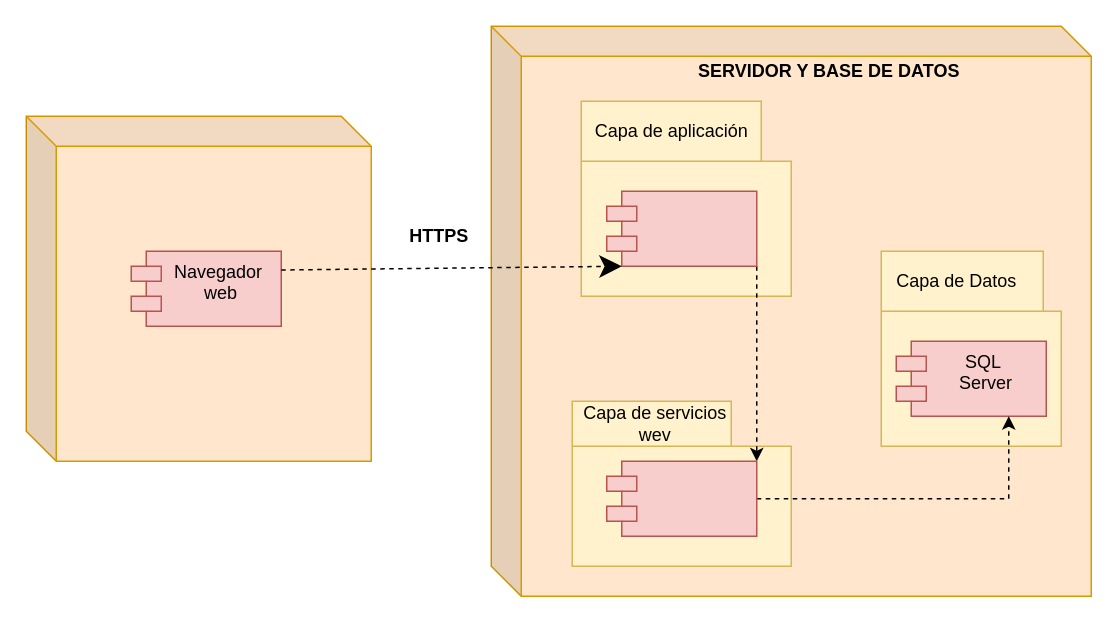
The diagram is 1118 pixels wide and 623 high, and some of its shapes have lost their labels. Each missing label, with the box of its shape:
Controladores: (605, 460, 757, 536)
Sitio web CSHTML: (605, 190, 757, 266)
